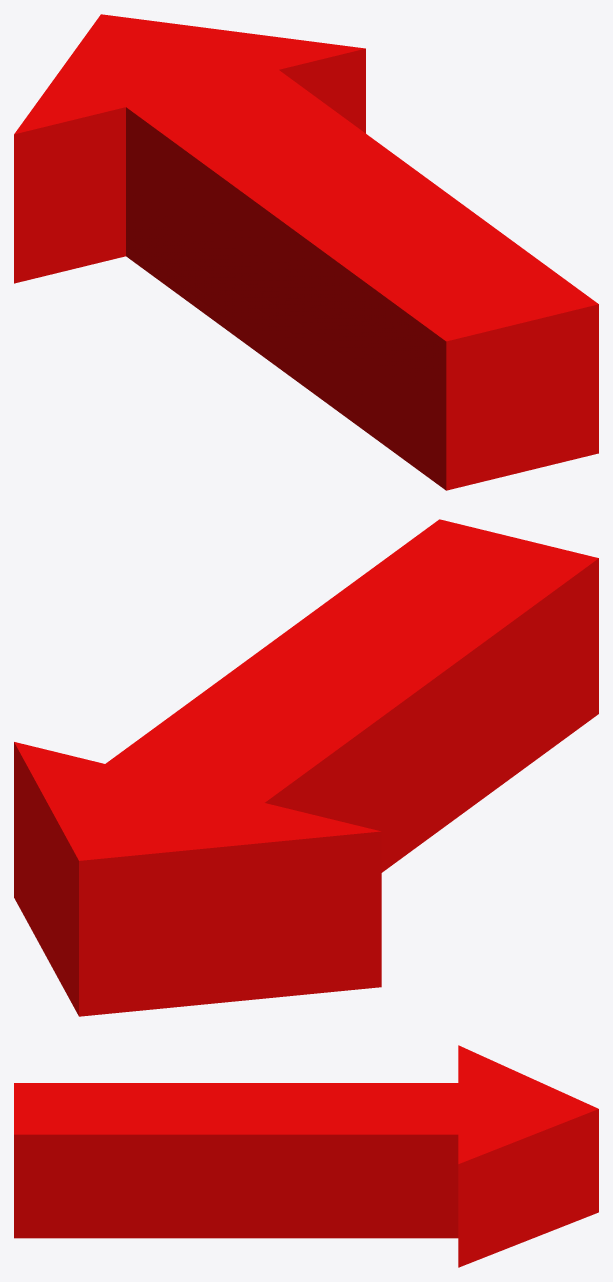
The model's file is pointer.glb.
3 views of the same model, one above another, from view 1: azimuth 30°, elevation 25°; view 2: azimuth 150°, elevation 25°; view 3: azimuth 270°, elevation 25° (orthographic). The views are drawn at different scales.
Visible parts, largest first — view 1: SketchUp; view 2: SketchUp; view 3: SketchUp.
Part boxes in pixels (x1,y1,x2,y2): SketchUp: [14, 14, 598, 490]; SketchUp: [14, 519, 598, 1016]; SketchUp: [14, 1045, 598, 1267].
Size of the model in its own units: 0.3458 by 0.14 by 0.7171.
